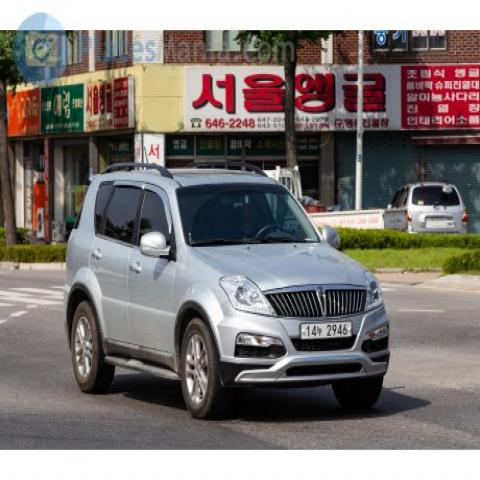LP: (298, 313, 355, 352)
